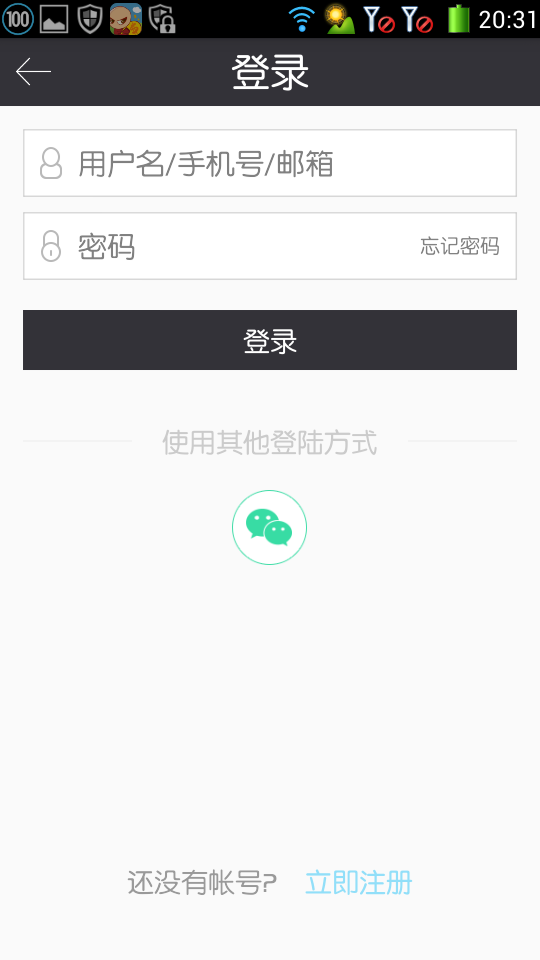button: (19, 293, 525, 387)
